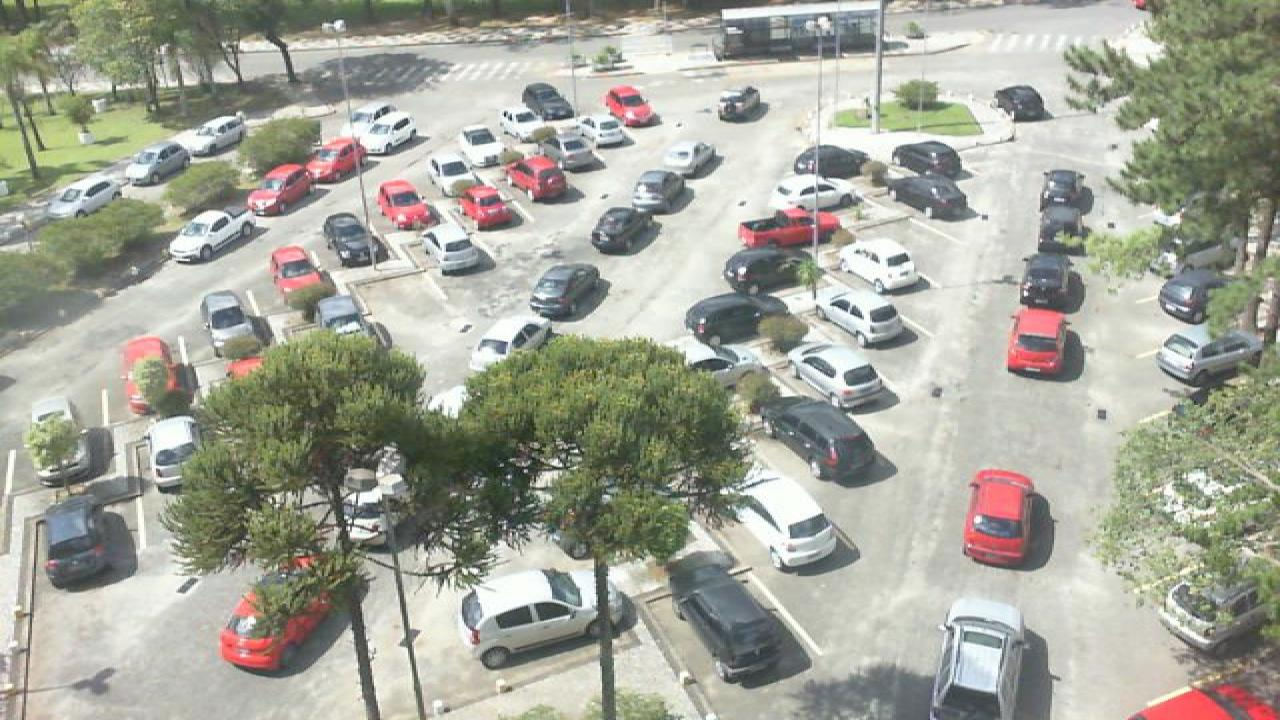Car: (668, 549, 806, 686), (458, 570, 632, 670), (216, 554, 336, 674), (928, 596, 1032, 720), (720, 468, 840, 570), (1154, 554, 1276, 652), (752, 395, 882, 484), (40, 498, 138, 588), (958, 468, 1040, 570), (786, 341, 890, 411), (22, 395, 102, 483), (1154, 320, 1264, 384), (810, 286, 902, 348), (682, 292, 786, 344), (836, 236, 926, 295), (118, 333, 182, 415), (166, 208, 258, 263), (722, 246, 818, 296), (1006, 307, 1072, 379), (466, 318, 550, 374), (144, 414, 202, 492), (198, 290, 264, 356), (738, 209, 842, 250), (526, 261, 600, 318), (1016, 252, 1082, 315), (886, 172, 972, 219), (1154, 268, 1224, 325), (676, 336, 756, 385), (244, 163, 316, 216), (314, 292, 378, 350), (44, 174, 126, 218), (268, 244, 326, 306), (116, 140, 194, 185), (770, 174, 860, 212), (300, 135, 364, 185), (450, 182, 514, 231), (178, 112, 248, 156), (502, 154, 566, 202), (586, 205, 650, 253), (418, 228, 484, 274), (374, 179, 432, 231), (322, 212, 376, 266), (350, 106, 414, 150), (890, 140, 964, 178), (1036, 204, 1088, 256), (792, 144, 866, 179), (630, 168, 686, 214), (540, 131, 604, 171), (426, 149, 488, 190), (600, 84, 656, 128), (456, 124, 510, 168), (494, 107, 552, 144), (560, 114, 624, 146), (520, 82, 574, 118), (660, 140, 714, 176), (992, 84, 1044, 120), (1040, 169, 1088, 207), (716, 84, 760, 121)
